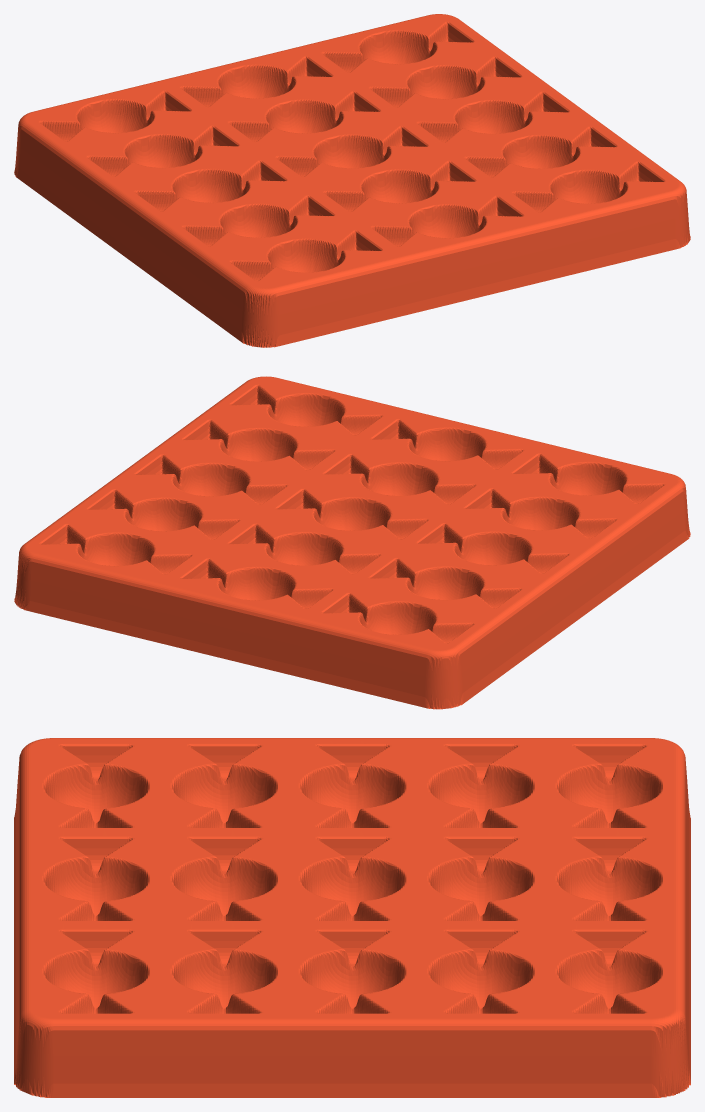
The model's file is mold.glb.
3 renders of one model, top to bottom at view 1: azimuth 30°, elevation 25°; view 2: azimuth 150°, elevation 25°; view 3: azimuth 270°, elevation 25°, orthographic. The views are drawn at different scales.
Parts seen in each view (by area): view 1: geometry_0; view 2: geometry_0; view 3: geometry_0.
Boxes of the visible parts, x1,y1,x2,y2 form: geometry_0: (14, 14, 690, 347); geometry_0: (14, 376, 690, 709); geometry_0: (14, 738, 690, 1097).
Bounding box in the file's own units: 0.1602 × 0.0185 × 0.1563.
